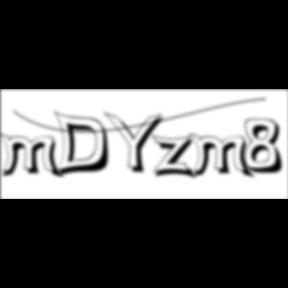8: (244, 117, 288, 176)
D: (54, 110, 116, 180)
Y: (104, 110, 170, 176)
m: (189, 132, 257, 181), (0, 132, 66, 181)
z: (152, 134, 200, 182)
